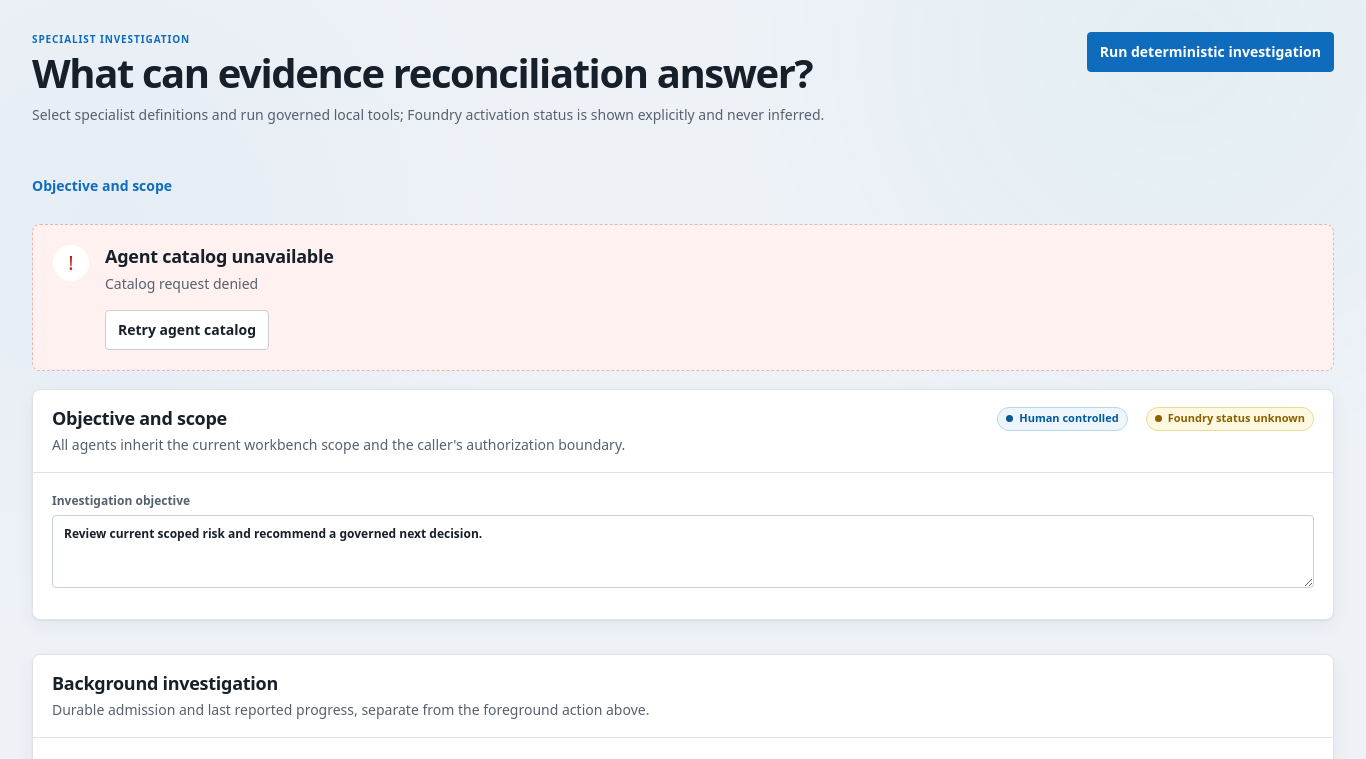
Test: Multi-Agent Autonomous Investigation workspace › distinguishes catalog failures from confirmed Foundry unavailability
Expected: the text "Catalog request denied" is shown, [105, 274, 258, 293]
Expected: the text "Foundry status unknown" is shown, [1146, 407, 1314, 431]
Click the button "Retry agent catalog" at (187, 330), box [105, 310, 269, 350]
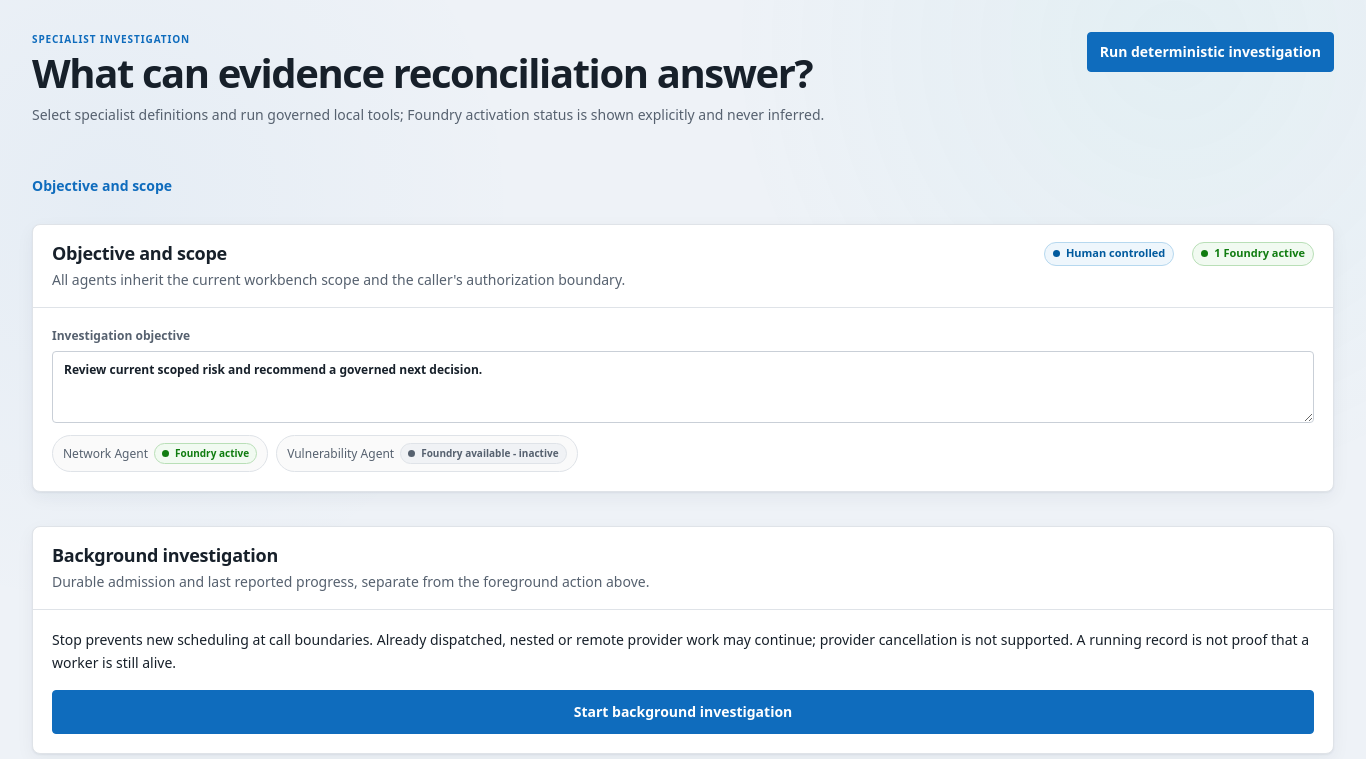
Now the text "Catalog request denied" is gone
